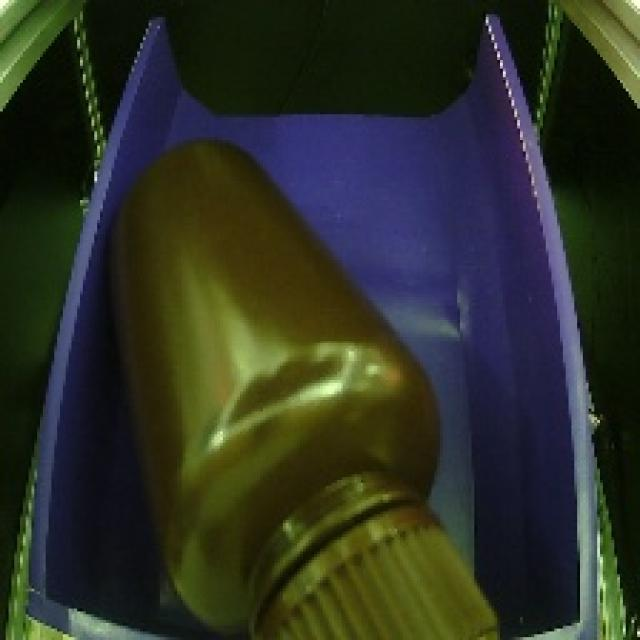plastic: (89, 127, 527, 640)
